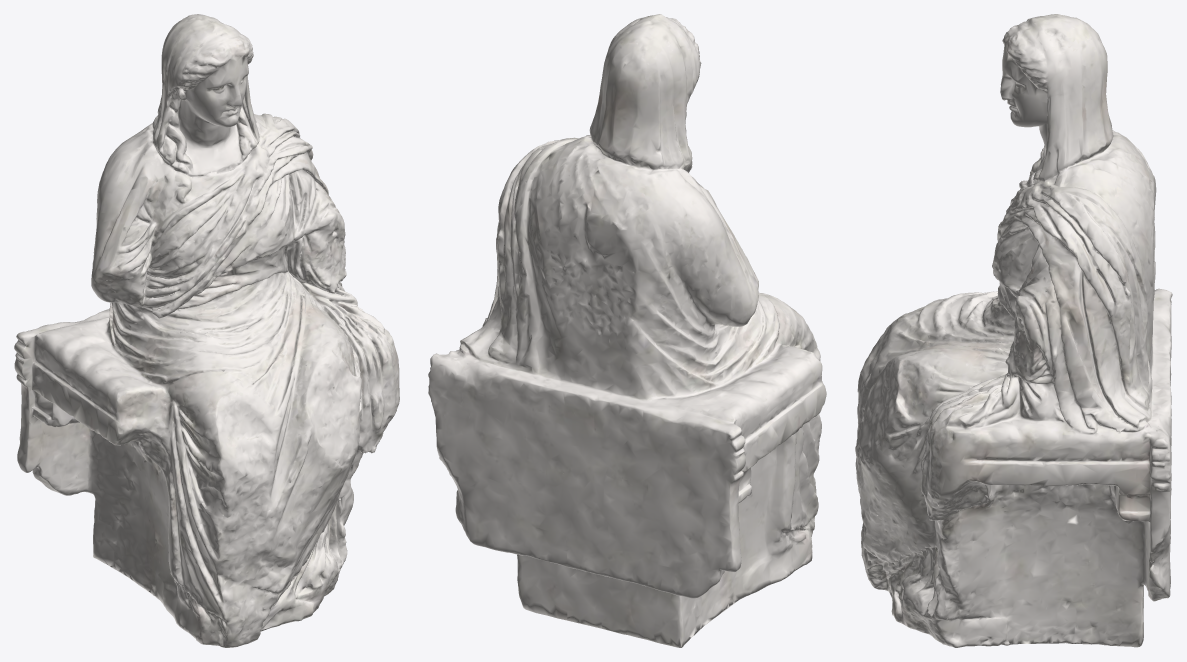
File: demeter_of_knidos.glb
3 views of the same model, side by side, from view 1: azimuth 30°, elevation 25°; view 2: azimuth 150°, elevation 25°; view 3: azimuth 270°, elevation 25° (orthographic). The views are drawn at different scales.
Parts seen in each view (by area): view 1: Object_2; view 2: Object_2; view 3: Object_2.
Part boxes in pixels (left/top/right/bottom): Object_2: left=14, top=14, right=399, bottom=647; Object_2: left=428, top=14, right=826, bottom=647; Object_2: left=855, top=14, right=1172, bottom=647.
Size of the model in its own units: 0.8282 by 1.47 by 0.7193.
1 material, 1 textured.
